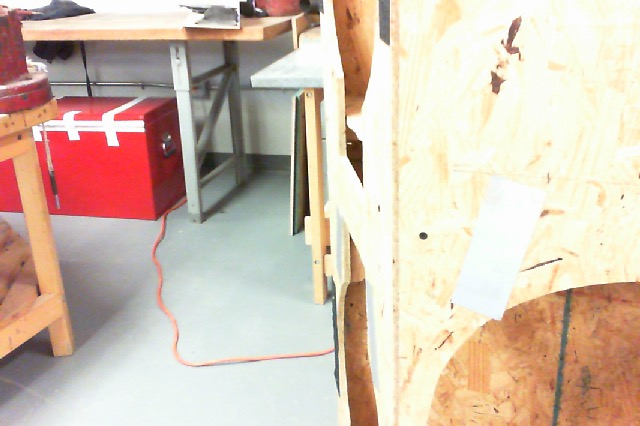Tape: (451, 175, 546, 321), (364, 282, 378, 392), (335, 207, 343, 279)
